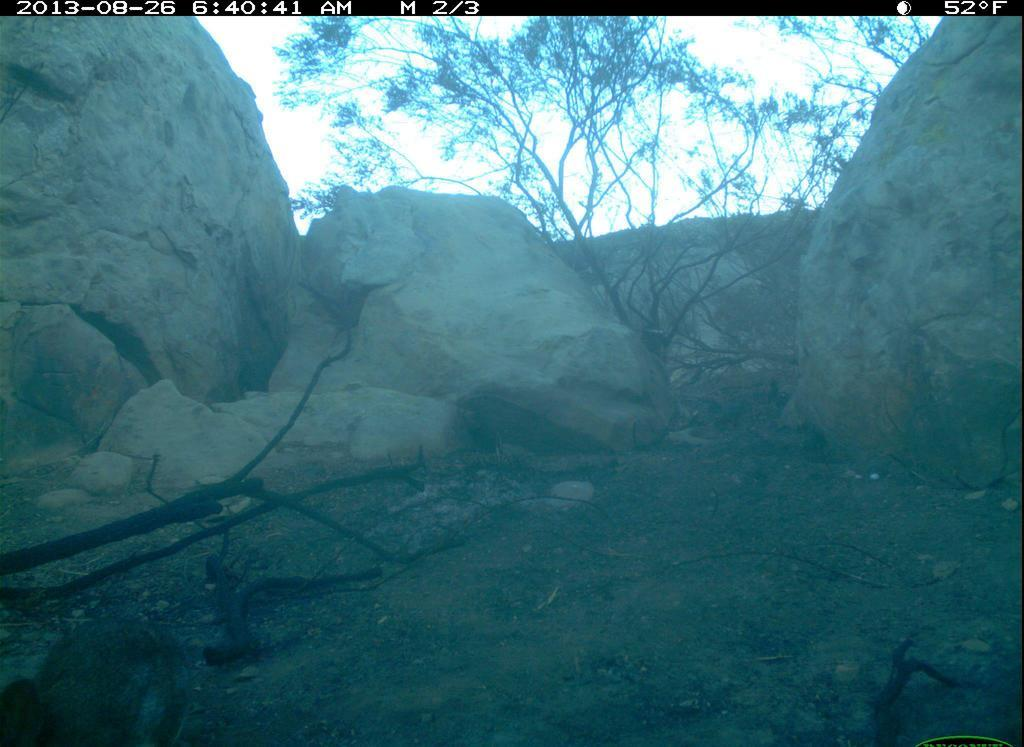rabbit: (26, 615, 207, 743)
